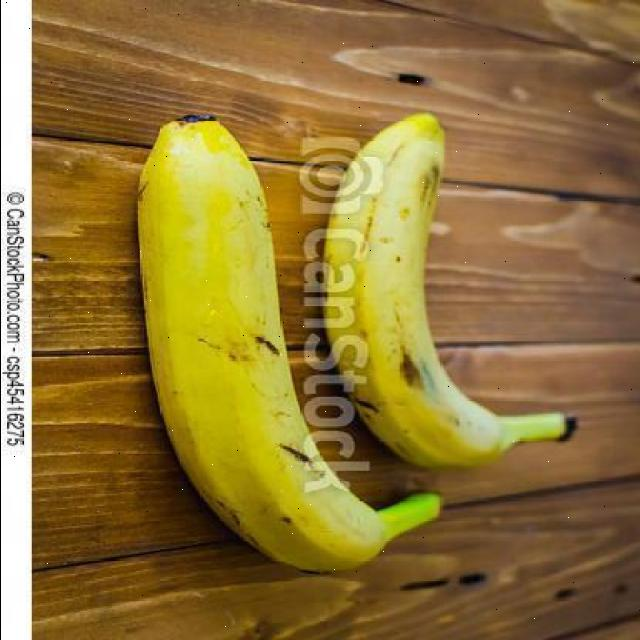banana: (135, 114, 437, 566), (355, 120, 575, 466)
